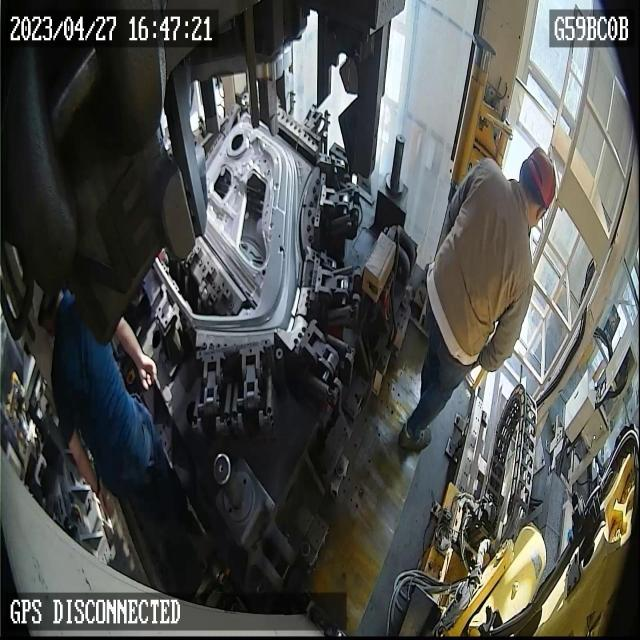Person: (398, 146, 556, 453), (37, 284, 168, 520)
